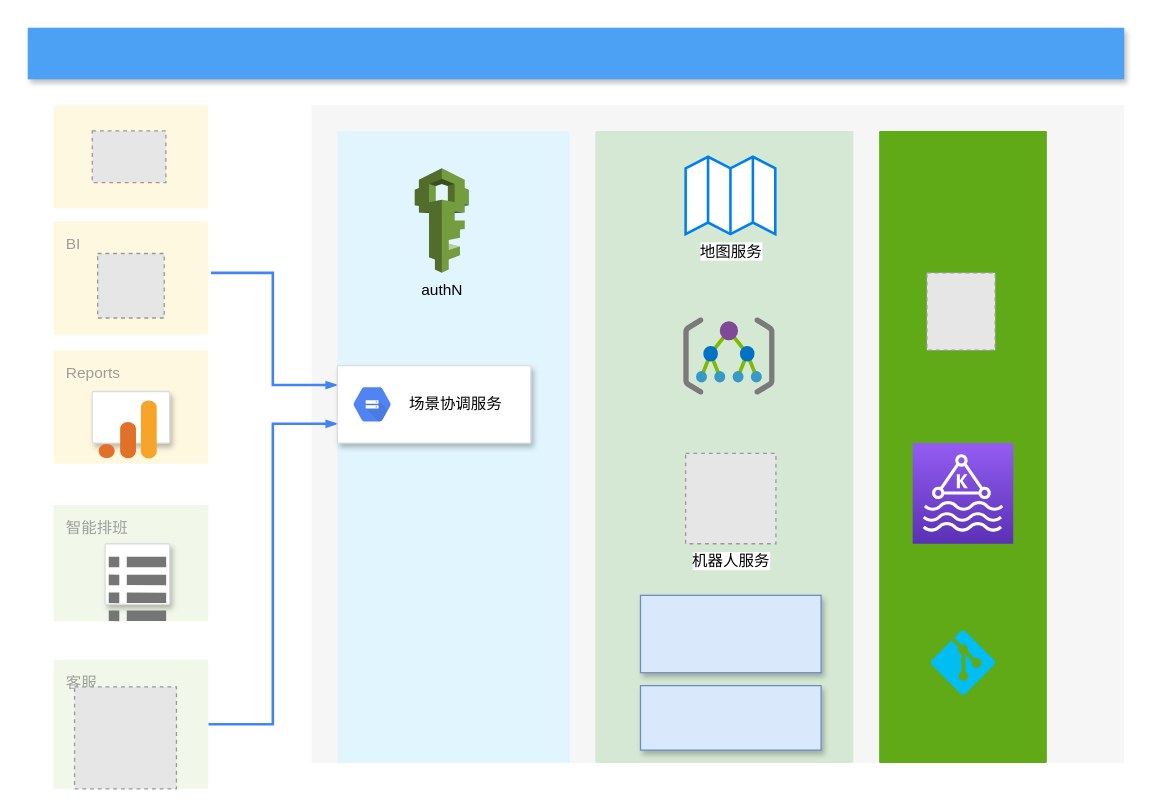
Some shapes in this 1153 by 811 pixel diagram are drawn without their labels. Grey dashed boxes stand in for pictures. Here are the shapes that lost their labels. From the top down, the centre of each, then its label:
At (x=576, y=55): "场景服务".
At (x=729, y=356): "站点服务".
At (x=731, y=635): "梯控服务".
At (x=731, y=719): "翻译服务".
